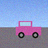vehicle: (16, 21, 41, 38)
